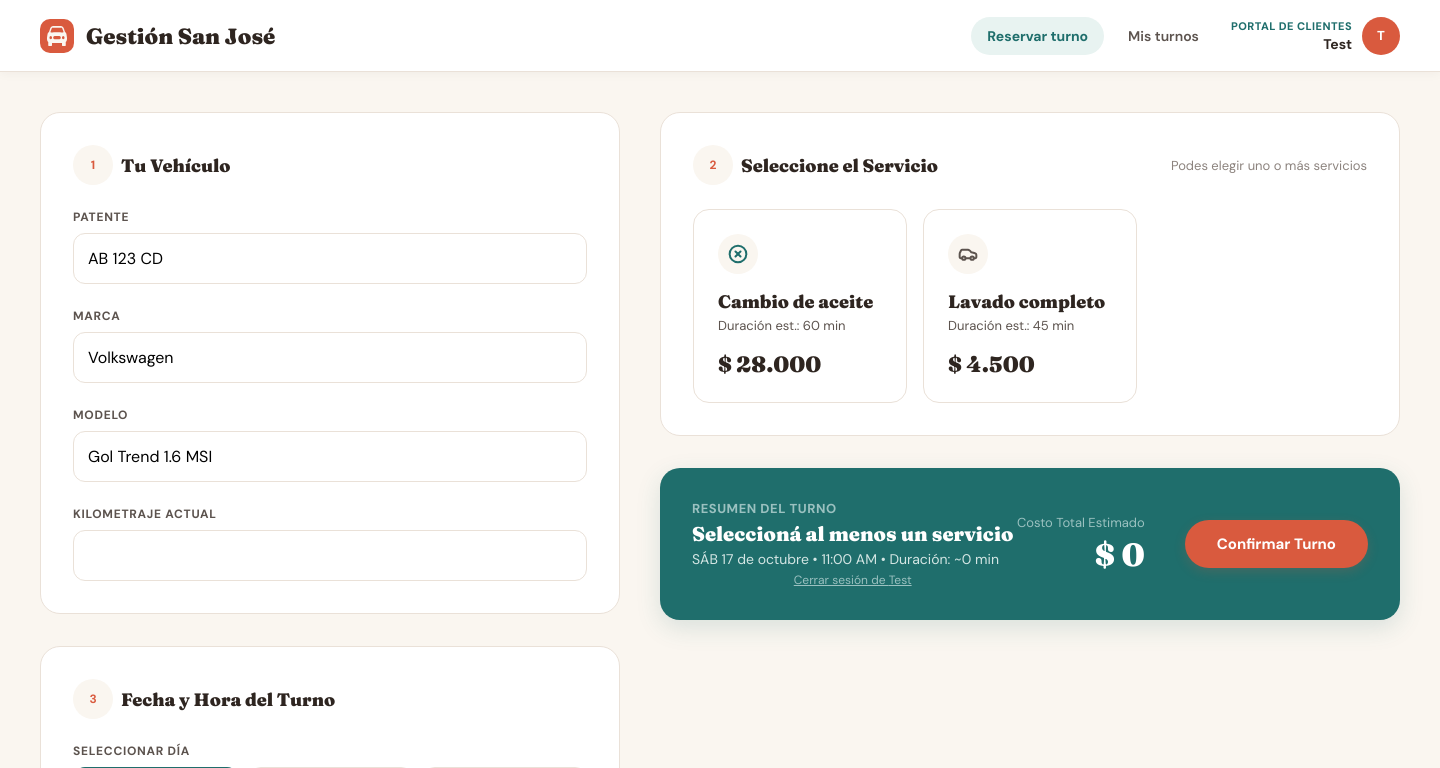
Reservar turno › confirma el turno y cambia el estado del botón
Click the button "Cambio de aceite Duración est.: 60 min $ 28.000". click: (800, 306)
box: [693,209,907,403]
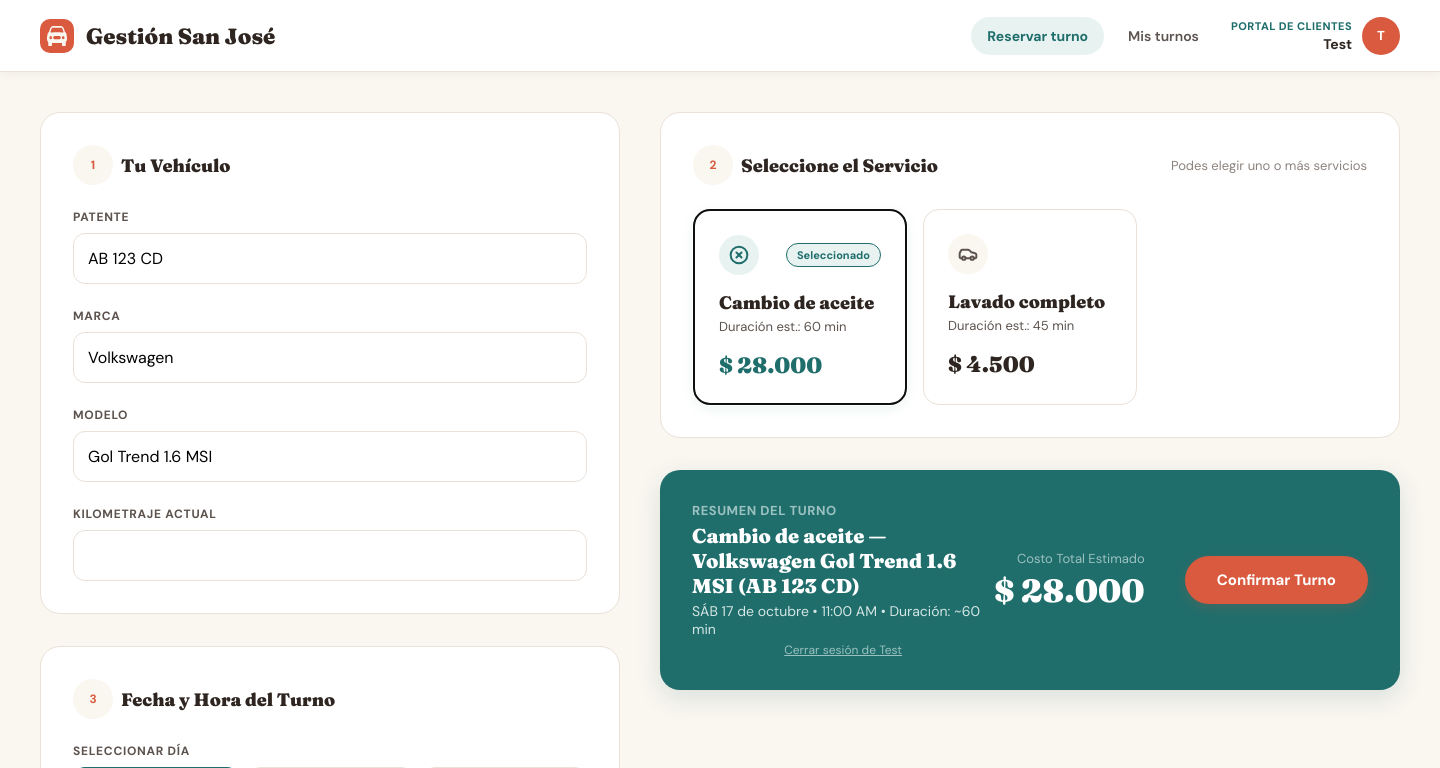
Click the button "Confirmar Turno". click: (1276, 580)
box: [1185,556,1368,604]
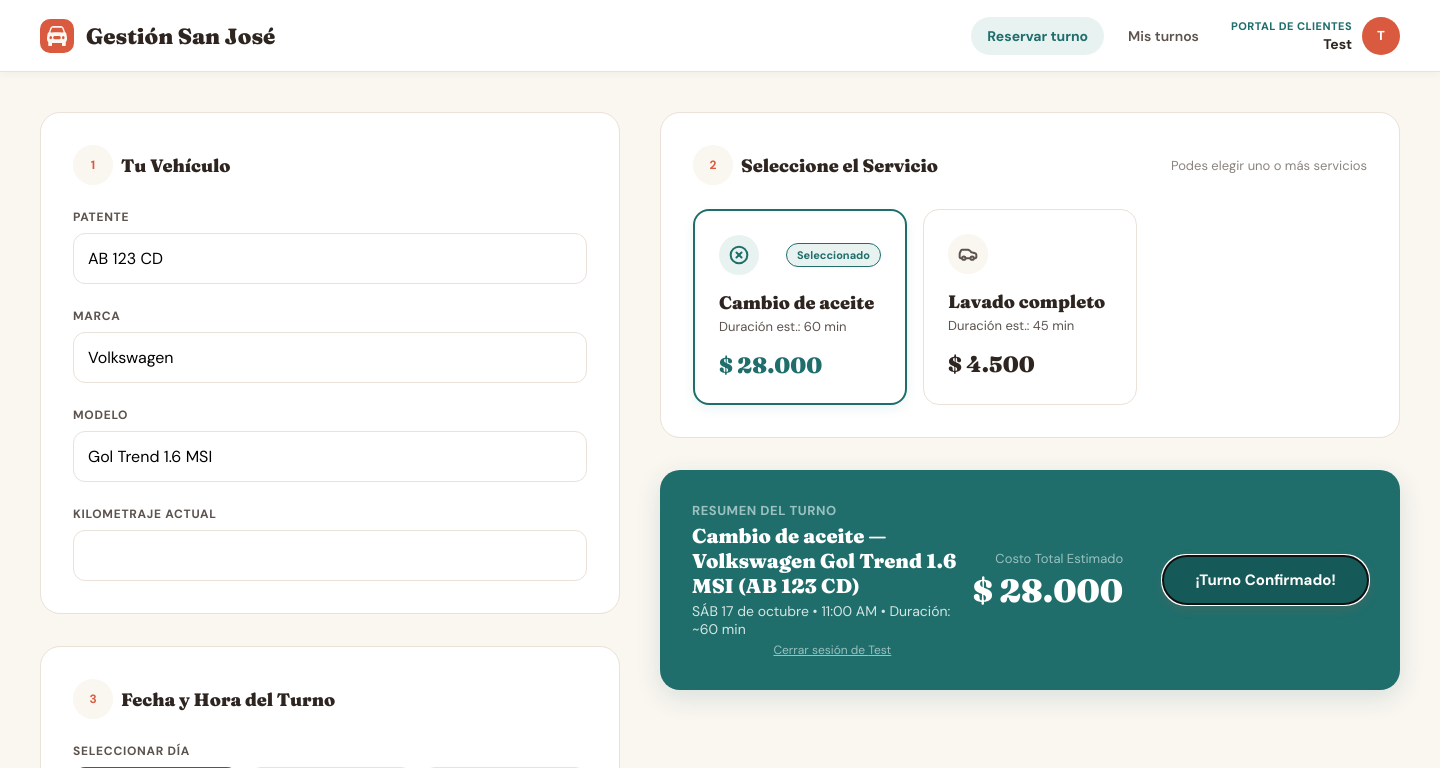
Result: the button "¡Turno Confirmado!" is shown at [1163,556,1368,604]
